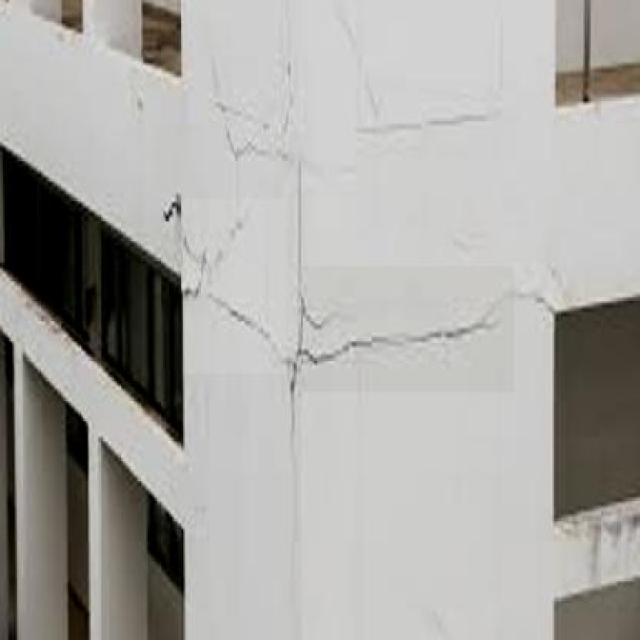Crack: (180, 258, 554, 400), (320, 7, 523, 145), (195, 66, 302, 180)
